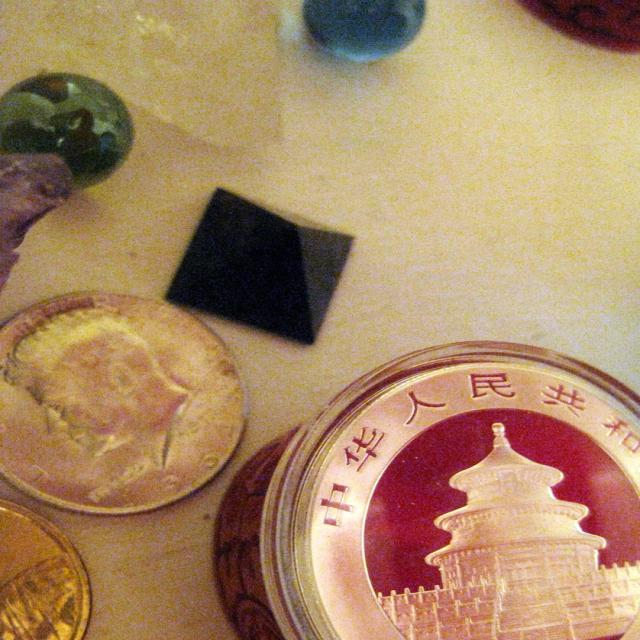Coin: (314, 355, 640, 640), (0, 288, 246, 518), (0, 497, 91, 640)
